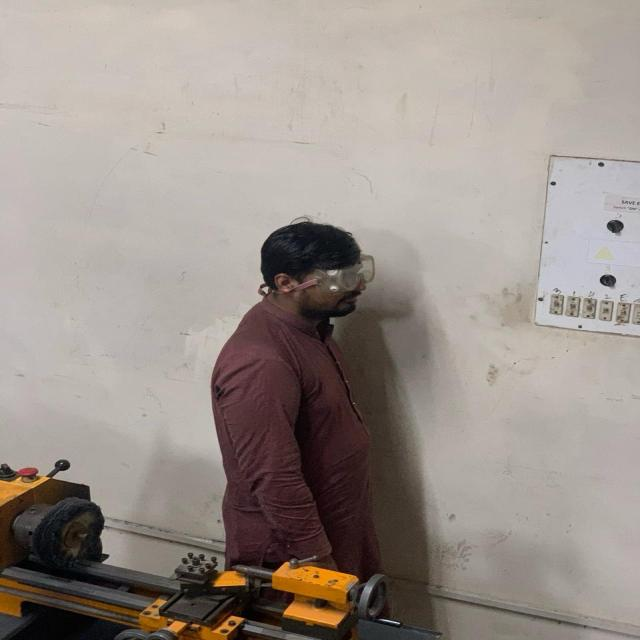googles: (314, 254, 377, 296)
